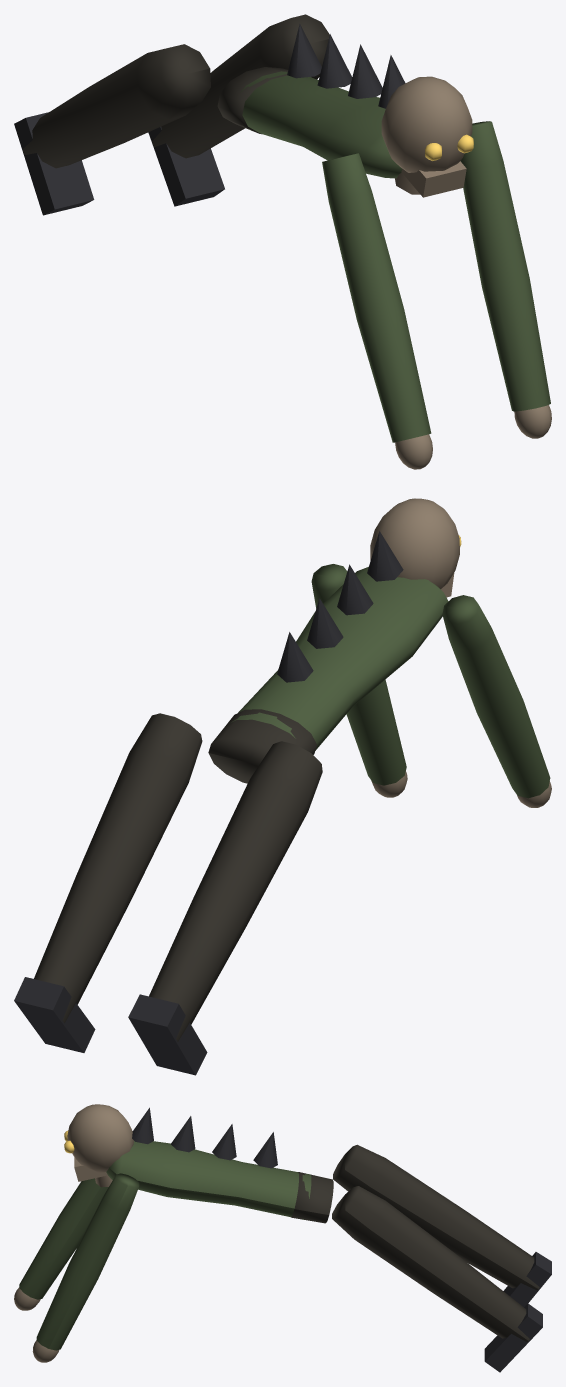
File: husk_crawler.glb
The picture shows the model from 3 angles, top to bottom: view 1: azimuth 30°, elevation 25°; view 2: azimuth 150°, elevation 25°; view 3: azimuth 270°, elevation 25°; orthographic projection. The views are drawn at different scales.
Visible parts, largest first — view 1: husk_crawler; view 2: husk_crawler; view 3: husk_crawler.
Boxes of the visible parts, x1,y1,x2,y2 form: husk_crawler: (14, 14, 551, 469); husk_crawler: (14, 498, 551, 1075); husk_crawler: (14, 1104, 551, 1372).
Size of what is drawn, in the model's own units: 0.498 by 0.936 by 1.91.
